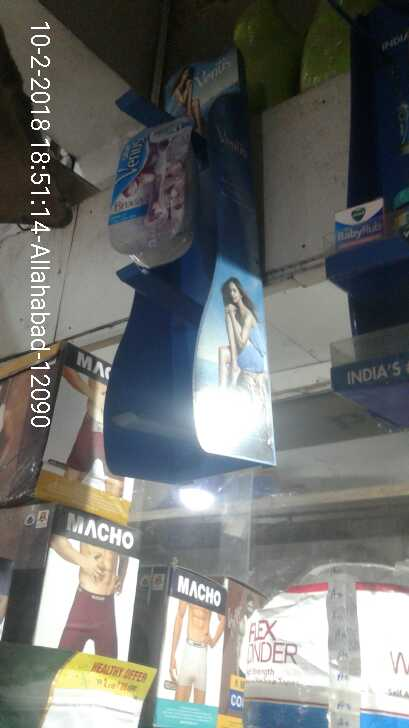beauty: (107, 113, 193, 265)
pharmacy: (327, 195, 392, 259)
